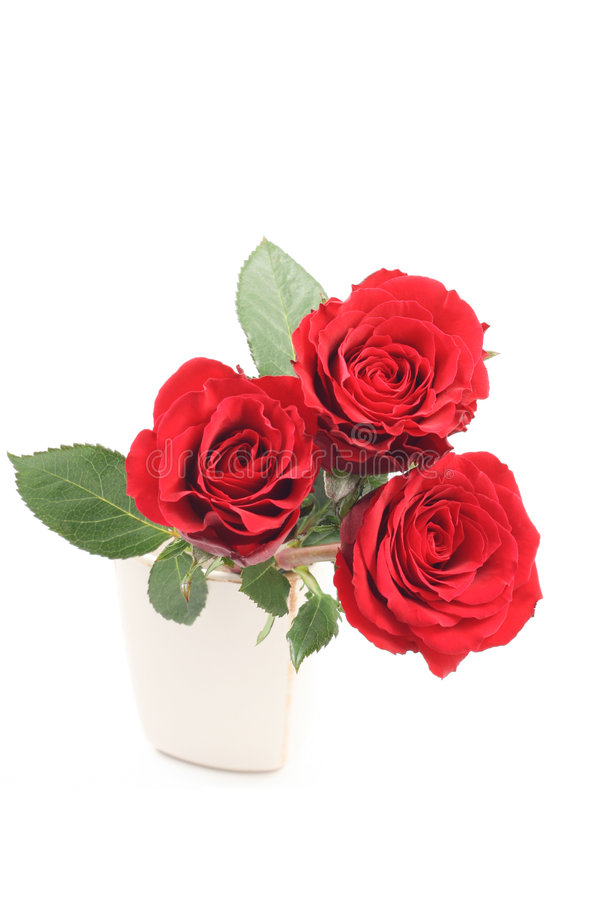RedRose: (128, 336, 336, 598), (351, 468, 557, 691), (298, 263, 509, 468)
